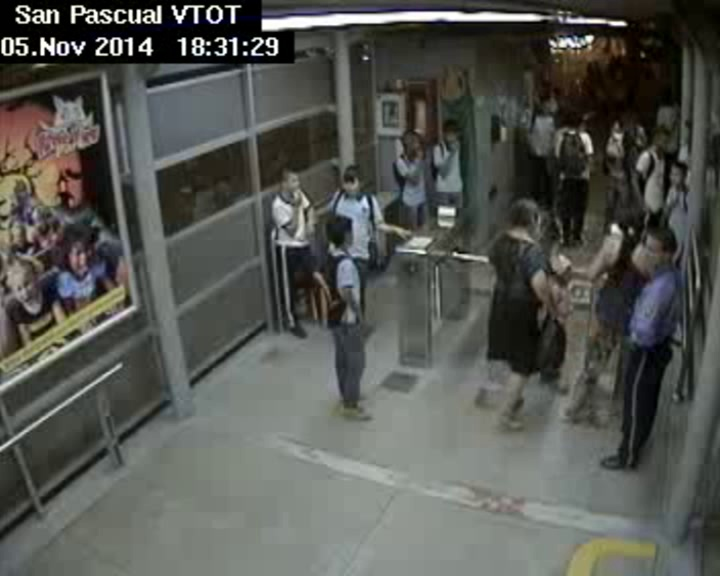person: (639, 229, 678, 272), (612, 200, 648, 244), (510, 195, 545, 236), (326, 208, 357, 253), (336, 158, 372, 196), (278, 165, 305, 201), (544, 215, 565, 253), (396, 129, 421, 158), (439, 116, 460, 148), (669, 159, 690, 188), (532, 93, 559, 115), (607, 114, 625, 143), (653, 127, 669, 155), (569, 109, 585, 133)
